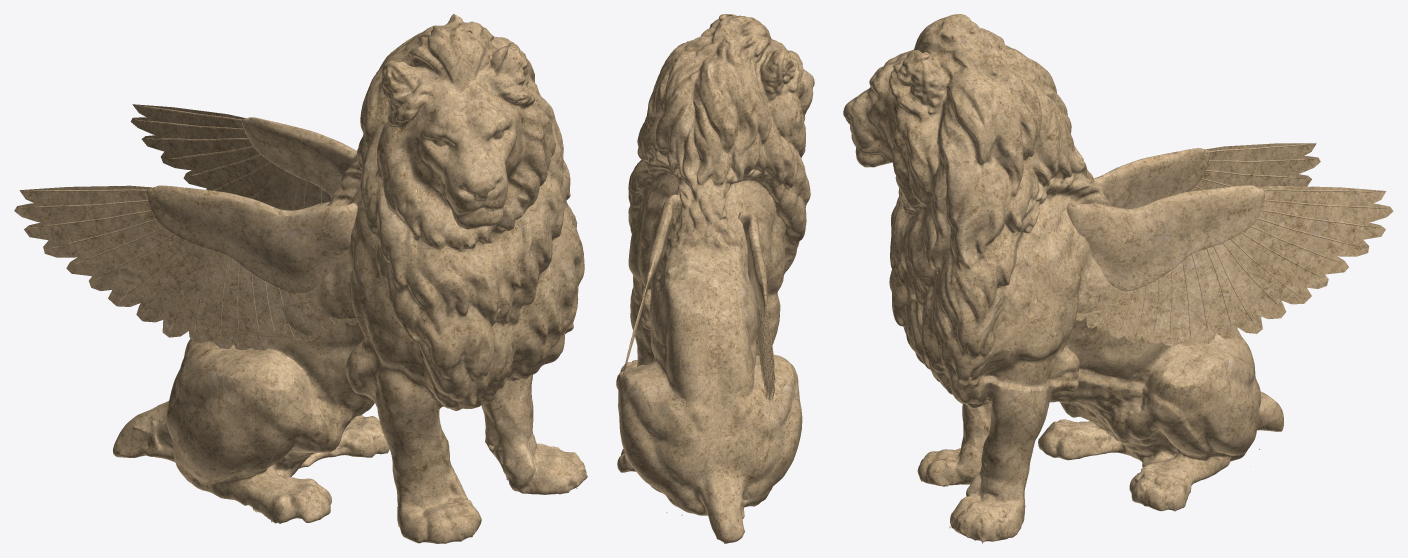
The model's file is lion_near.glb.
The picture shows the model from 3 angles, left to right: view 1: azimuth 30°, elevation 25°; view 2: azimuth 150°, elevation 25°; view 3: azimuth 270°, elevation 25°; orthographic projection. The views are drawn at different scales.
Parts seen in each view (by area): view 1: LION; view 2: LION; view 3: LION.
Part boxes in pixels (left/top/right/bottom): LION: left=14, top=14, right=587, bottom=543; LION: left=616, top=14, right=814, bottom=543; LION: left=843, top=14, right=1393, bottom=543.
Bounding box in the file's own units: 1.12 × 1.45 × 1.5.
1 material, 1 textured.
